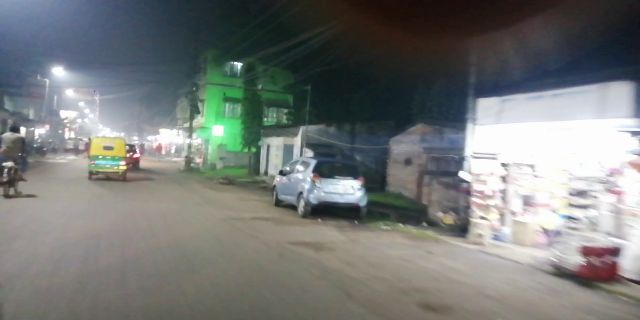Autorickshaw: (78, 129, 134, 189)
Car: (271, 153, 368, 220)
